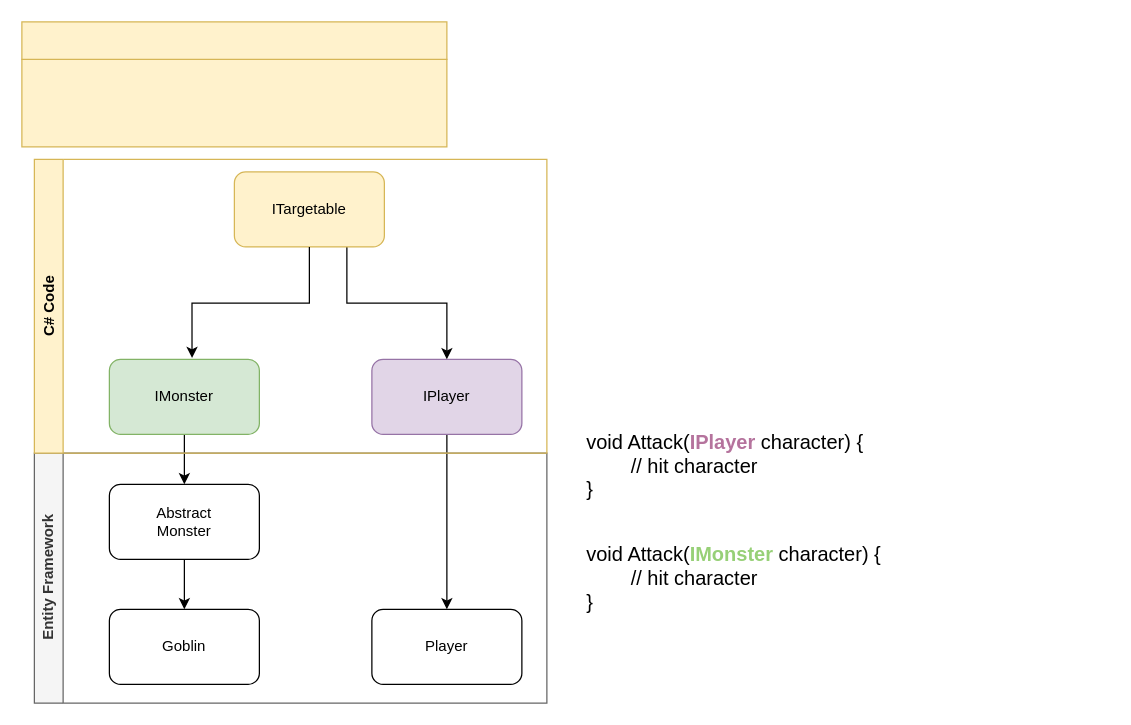
The diagram is 1131 pixels wide and 725 high, and some of its shapes have lost their labels. Each missing label, with the centre of its shape:
"Marker Interface - Behaviors" goes at point (234, 40).
"void Attack(ITargetable character) { // hit character }" goes at point (234, 102).
